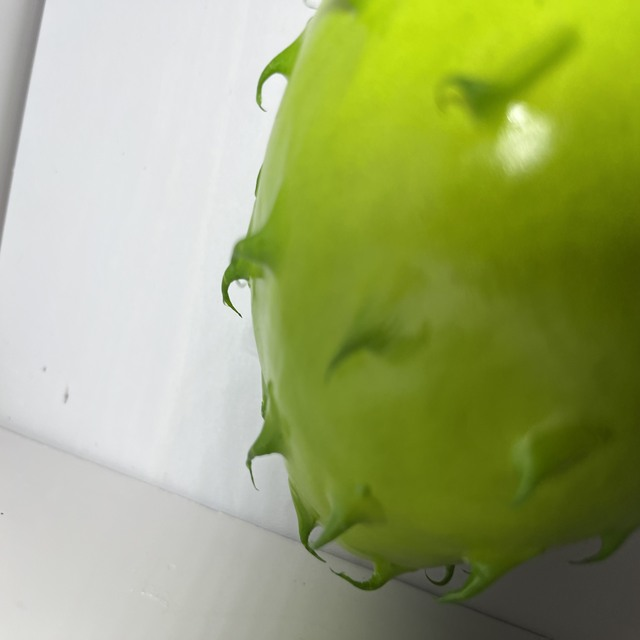Man cau: (221, 0, 640, 609)
